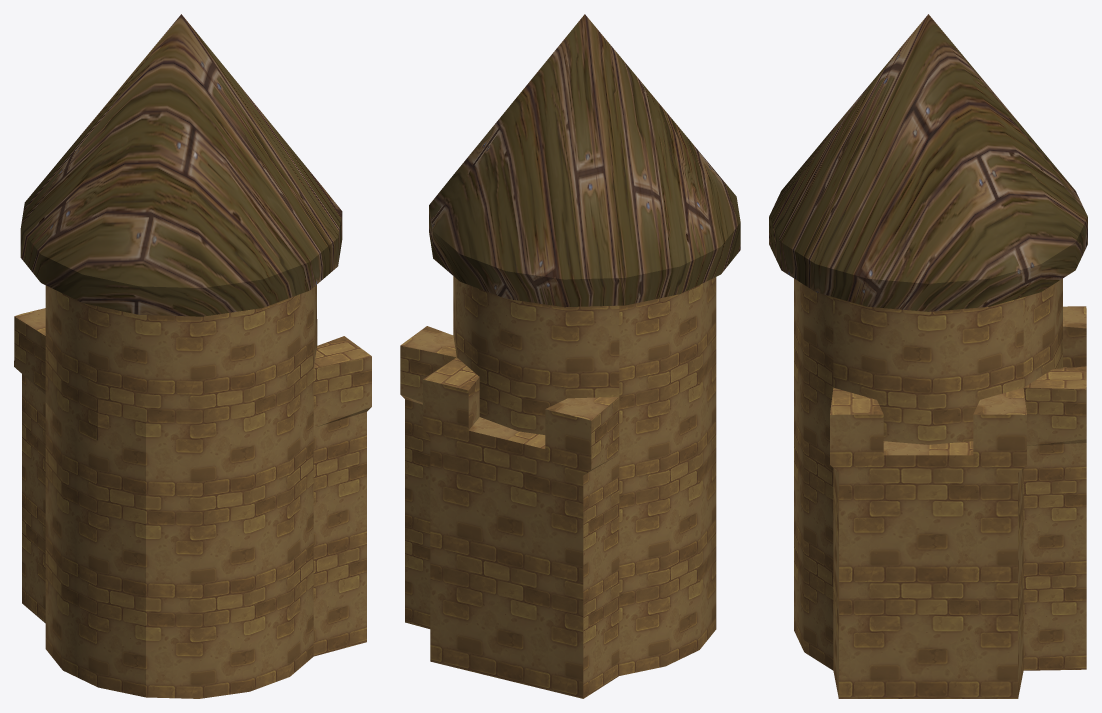
Rendered from castle_corner_tower.fbx.
3 renders of one model, left to right at view 1: azimuth 30°, elevation 25°; view 2: azimuth 150°, elevation 25°; view 3: azimuth 270°, elevation 25°, orthographic. The views are drawn at different scales.
Visible parts, largest first — view 1: castle_corner_tower; view 2: castle_corner_tower; view 3: castle_corner_tower.
Boxes of the visible parts, x1=… form: castle_corner_tower: x1=14, y1=14, x2=371, y2=698; castle_corner_tower: x1=400, y1=14, x2=740, y2=698; castle_corner_tower: x1=769, y1=14, x2=1087, y2=698.
Bounding box in the file's own units: 711 × 1521 × 711.
